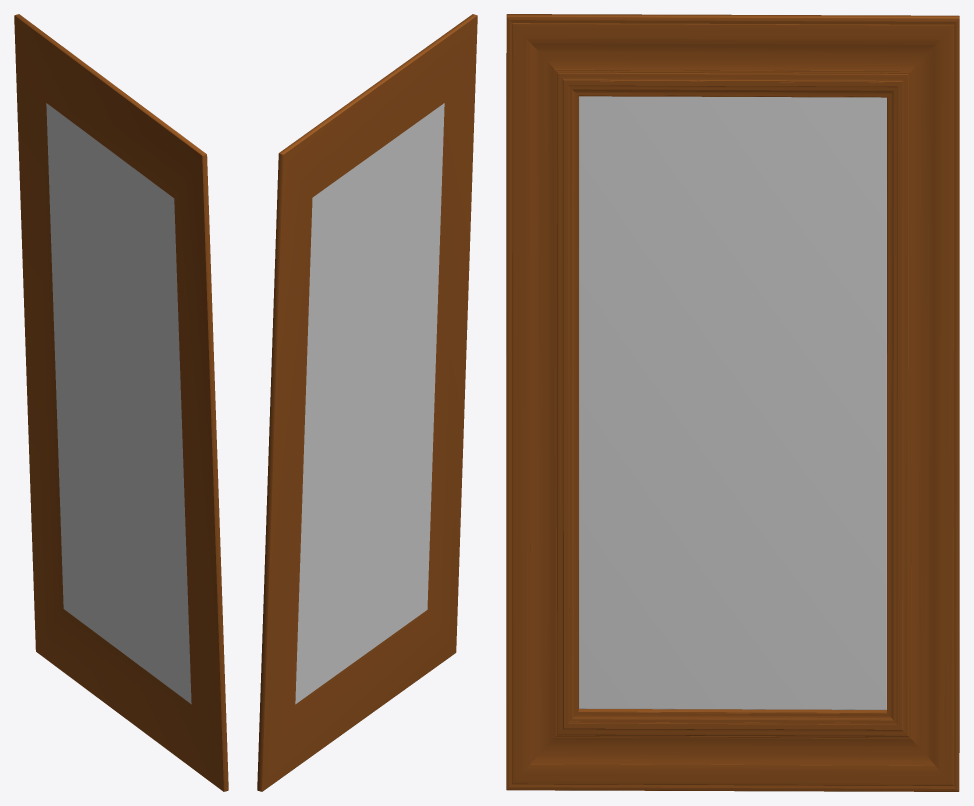
File: lukisan3.fbx
3 views of the same model, side by side, from view 1: azimuth 30°, elevation 25°; view 2: azimuth 150°, elevation 25°; view 3: azimuth 270°, elevation 25° (orthographic). The views are drawn at different scales.
Parts seen in each view (by area): view 1: Picture Frame; view 2: Picture Frame; view 3: Picture Frame.
Boxes of the visible parts, x1,y1,x2,y2 form: Picture Frame: (14, 14, 228, 791); Picture Frame: (257, 14, 477, 791); Picture Frame: (506, 14, 959, 791).
Size of the model in its own units: 27.09 by 556 by 300.
